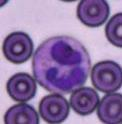N: (32, 35, 90, 93)
